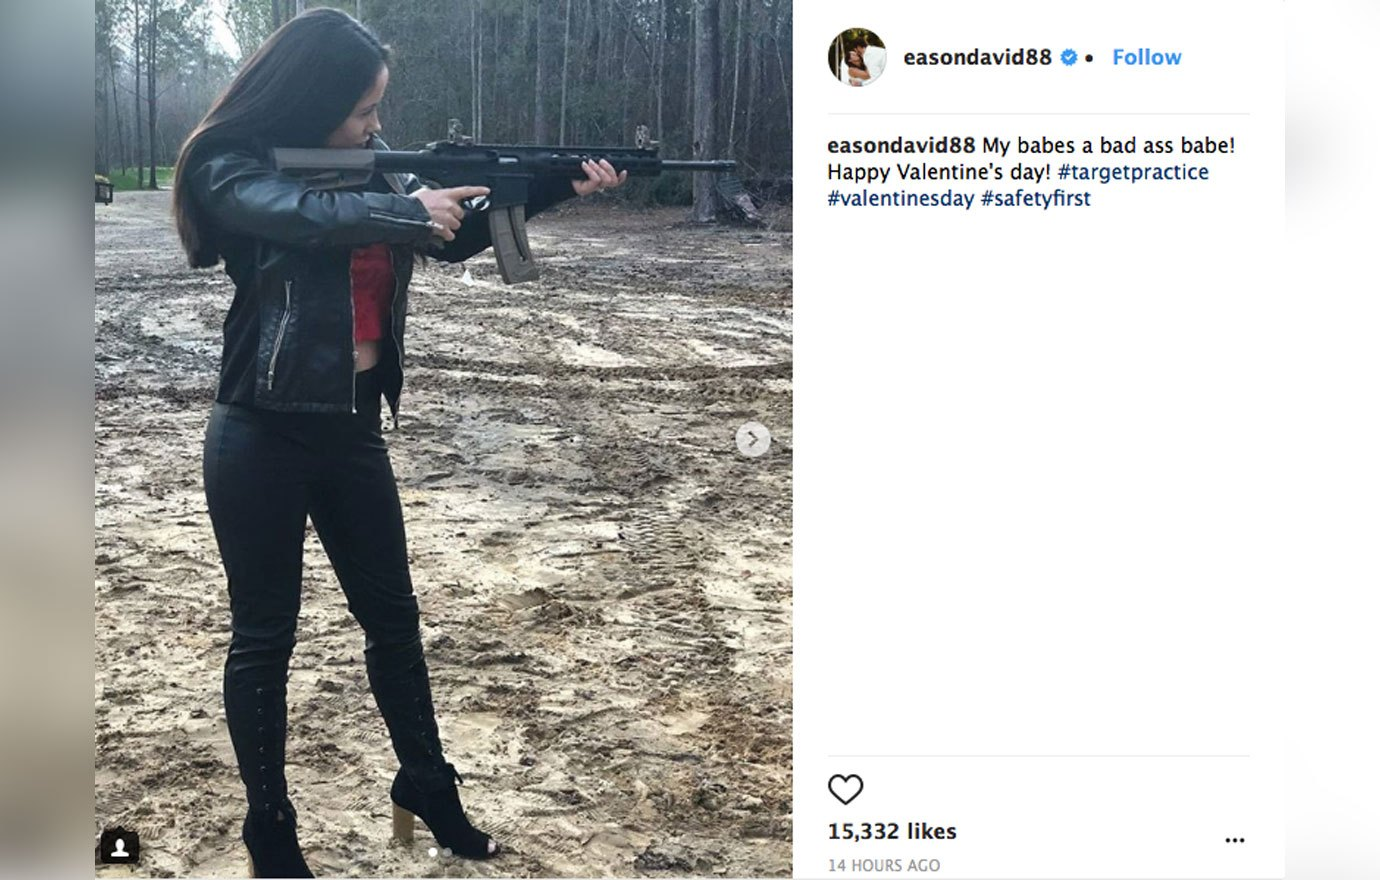rifle: (270, 113, 739, 286)
